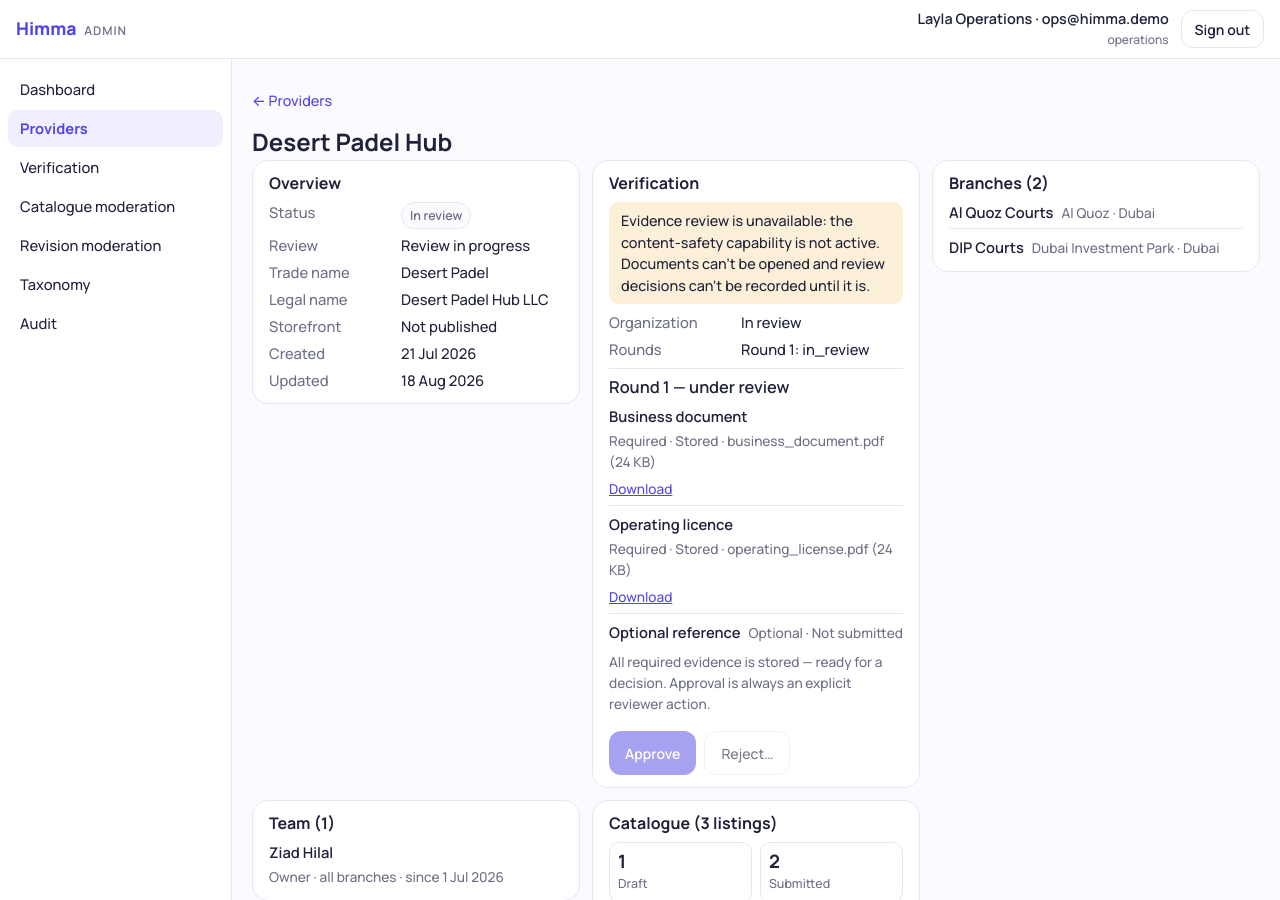
Test case: fail-closed truths › content safety unavailable: banner shown, review/decide disabled, download refused with the typed reason
Expected: the text "content-safety capability is not active" is shown, [621,211,885,295]
Expected: the button "Approve" is disabled, [609,731,696,775]
Step 1. Click the button "Download" below "Business document" → (641, 489), box [609,477,672,501]
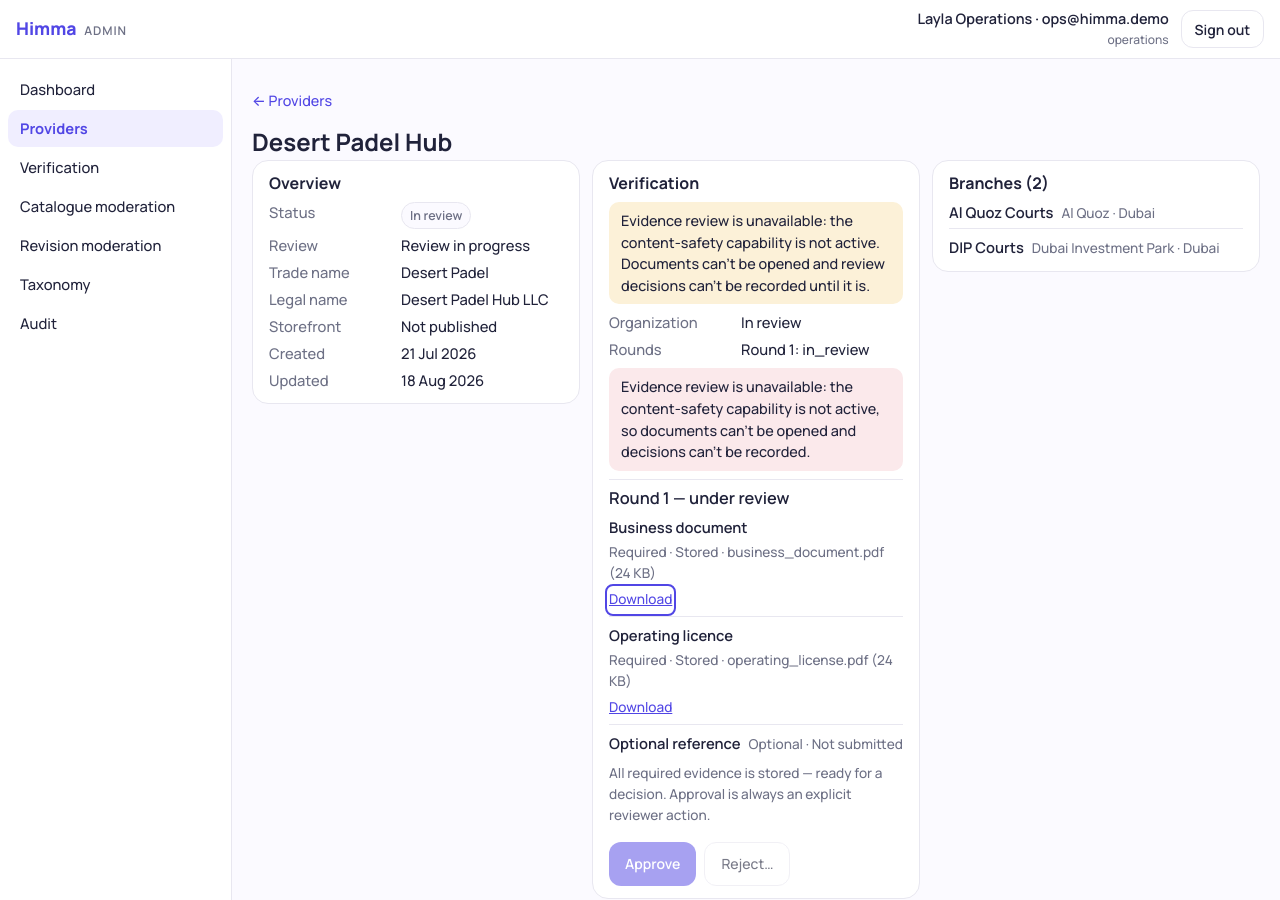
Expected: the text "documents can’t be opened and decisions can’t be recorded" is shown, [621,377,880,461]
